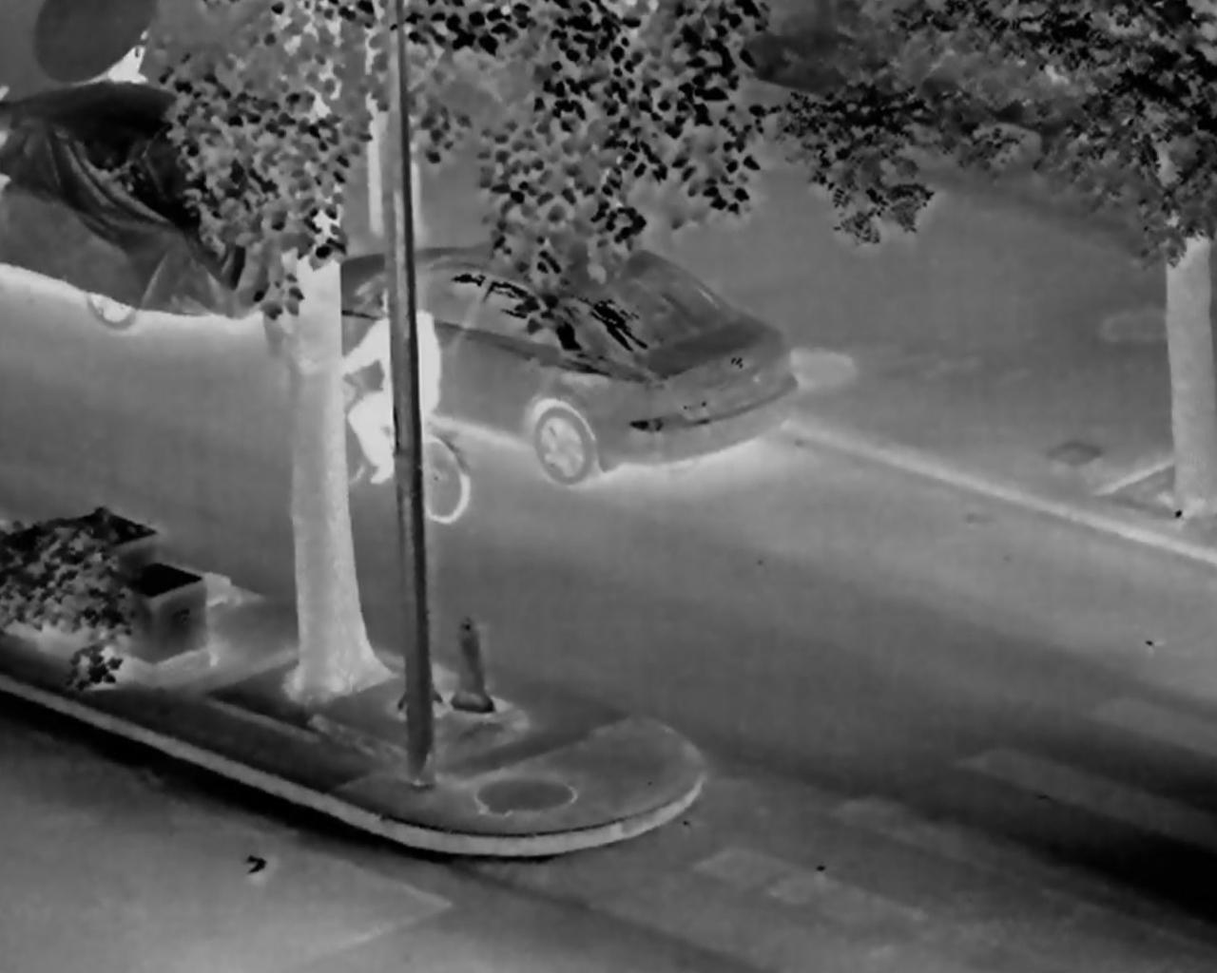person: (338, 288, 440, 485)
